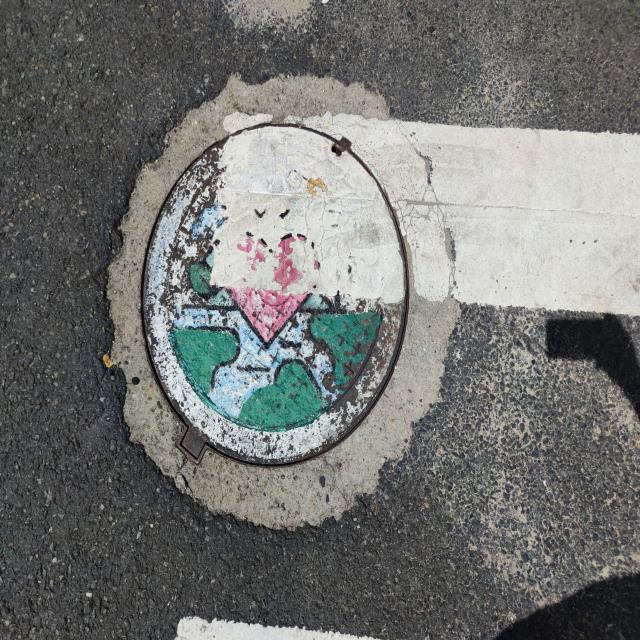Good: (133, 118, 420, 480)
